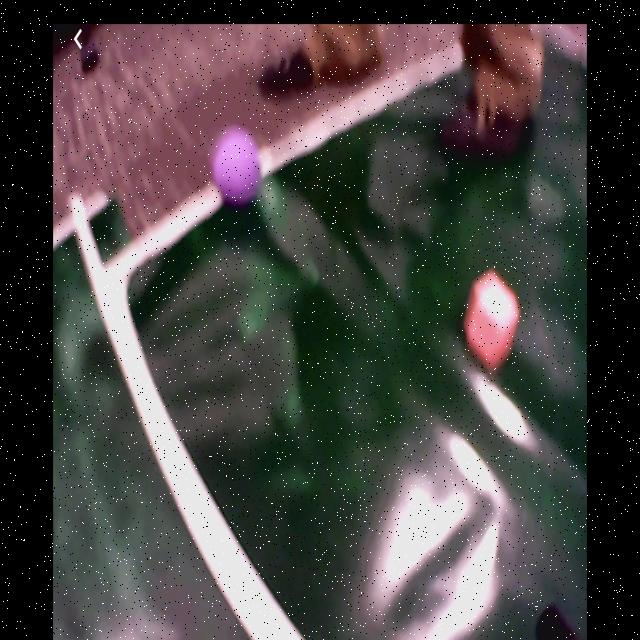ball: (214, 127, 261, 203)
